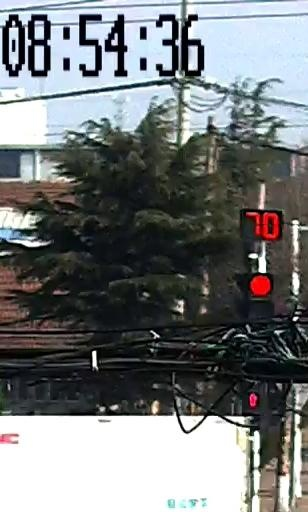red: (252, 272, 279, 299)
redpeople: (248, 391, 262, 405)
redtime: (243, 210, 281, 248)
